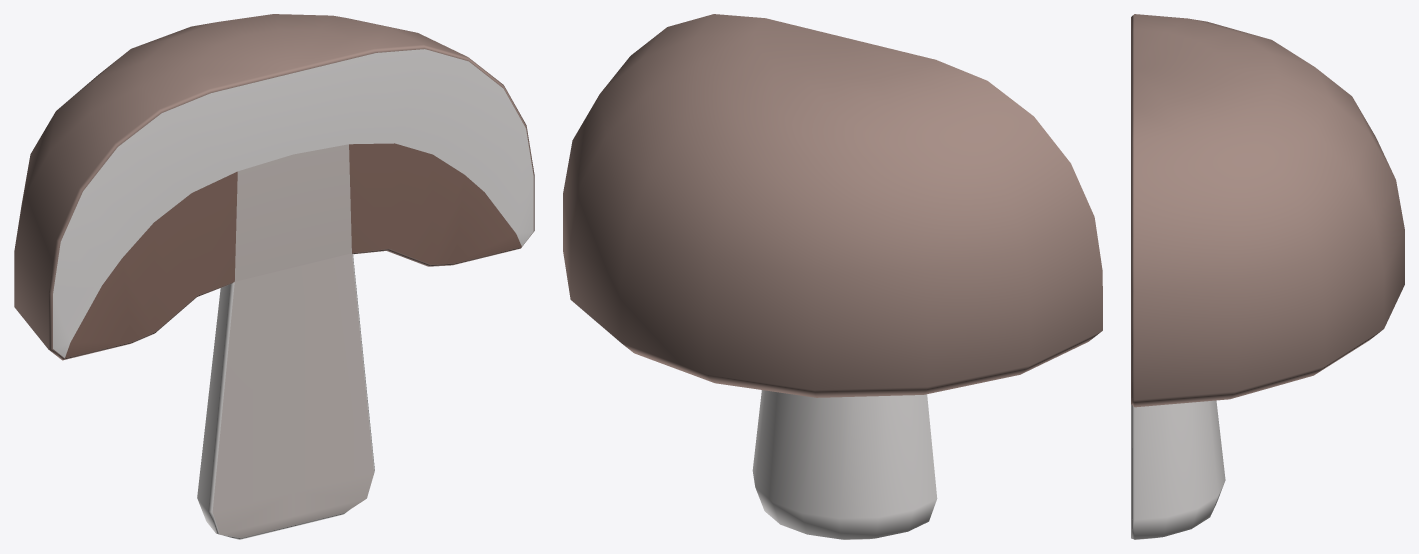
File: Champignon_Mushroom_Half.fbx
3 renders of one model, left to right at view 1: azimuth 30°, elevation 25°; view 2: azimuth 150°, elevation 25°; view 3: azimuth 270°, elevation 25°, orthographic. The views are drawn at different scales.
Parts seen in each view (by area): view 1: Champignon_Mushroom_Half; view 2: Champignon_Mushroom_Half; view 3: Champignon_Mushroom_Half.
Boxes of the visible parts, x1=… form: Champignon_Mushroom_Half: x1=14, y1=14, x2=534, y2=539; Champignon_Mushroom_Half: x1=563, y1=14, x2=1102, y2=539; Champignon_Mushroom_Half: x1=1131, y1=14, x2=1404, y2=539.
Bounding box in the file's own units: 11.56 × 10.42 × 5.8.
